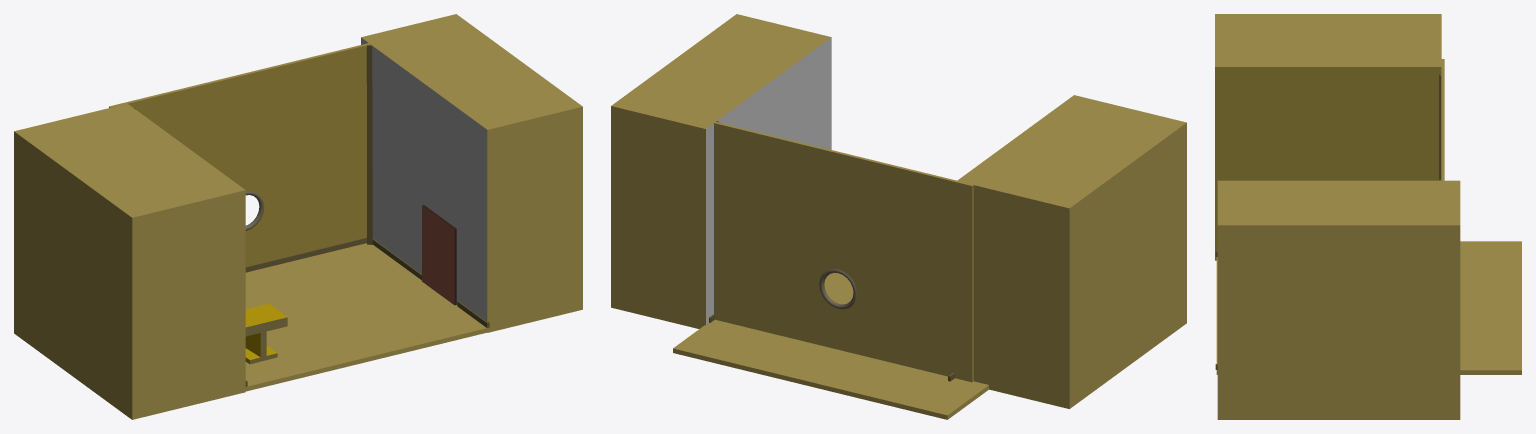
The model's file is Tutorial_Puzzle_Cabin_.fbx.
3 views of the same model, side by side, from view 1: azimuth 30°, elevation 25°; view 2: azimuth 150°, elevation 25°; view 3: azimuth 270°, elevation 25° (orthographic). The views are drawn at different scales.
Parts seen in each view (by area): view 1: Left_Wall, Right_Wall, Back_Wall, Floor, Door, Table, Right_Corner_Wall_Edge, Back_Wall_Edge, Left_Wall_Edge; view 2: Left_Wall, Back_Wall, Right_Wall, Floor, Window; view 3: Right_Wall, Left_Wall, Floor, Back_Wall, Left_Corner_Wall_Edge.
Boxes of the visible parts, bbox=[...] form: Left_Wall: bbox=[14, 104, 245, 419]; Right_Wall: bbox=[361, 14, 582, 332]; Back_Wall: bbox=[109, 43, 371, 266]; Floor: bbox=[245, 243, 488, 391]; Door: bbox=[422, 205, 456, 305]; Table: bbox=[245, 303, 287, 364]; Right_Corner_Wall_Edge: bbox=[366, 44, 372, 244]; Back_Wall_Edge: bbox=[245, 237, 366, 272]; Left_Wall_Edge: bbox=[372, 238, 489, 327]; Left_Wall: bbox=[957, 95, 1186, 408]; Back_Wall: bbox=[713, 121, 973, 382]; Right_Wall: bbox=[611, 14, 831, 328]; Floor: bbox=[673, 273, 988, 419]; Window: bbox=[819, 269, 856, 309]; Right_Wall: bbox=[1217, 180, 1460, 419]; Left_Wall: bbox=[1215, 14, 1441, 260]; Floor: bbox=[1216, 241, 1521, 374]; Back_Wall: bbox=[1441, 59, 1444, 180]; Left_Corner_Wall_Edge: bbox=[1439, 73, 1441, 179].
Bounding box in the file's own units: 10.12 × 4.49 × 6.2.
